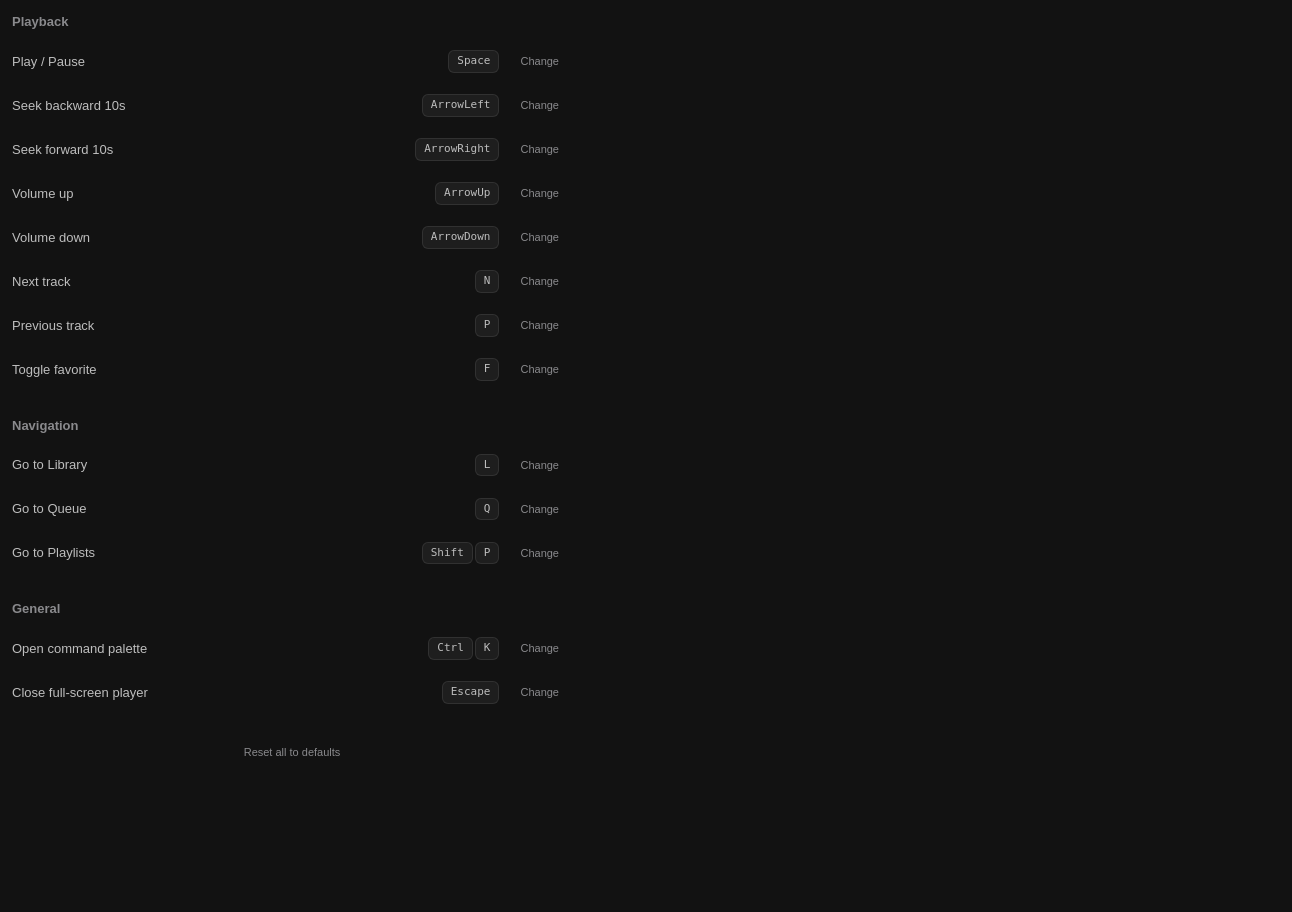
KeyboardShortcutsSettings › rebinding to a combo already used by another shortcut shows a conflict toast and changes nothing
Step 1. Click the button "Change" in the row of "Toggle favorite" → x=540, y=370, box [508,356,572,384]
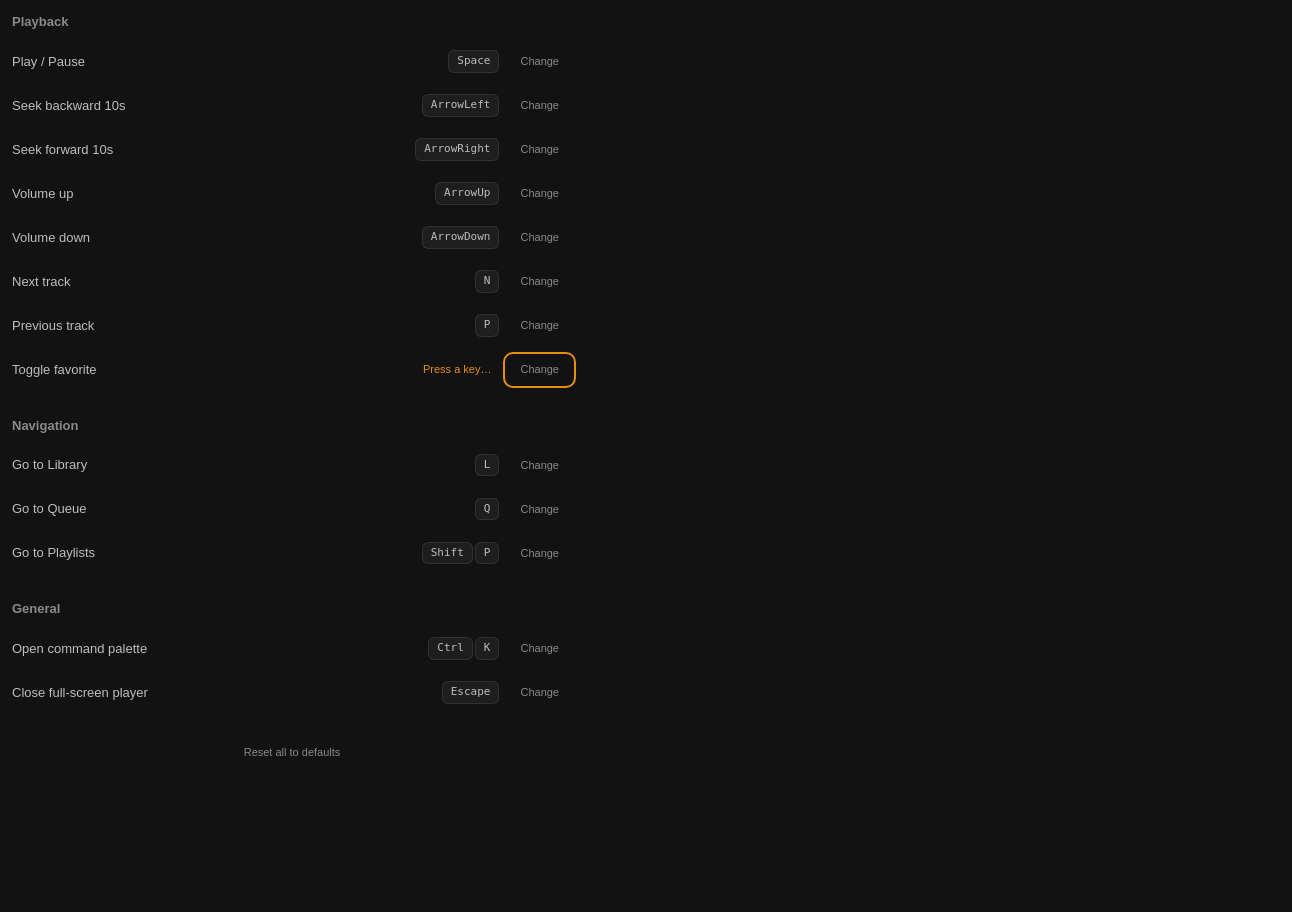
Note: "N" is already Next track's default binding.
Step 2. Press n
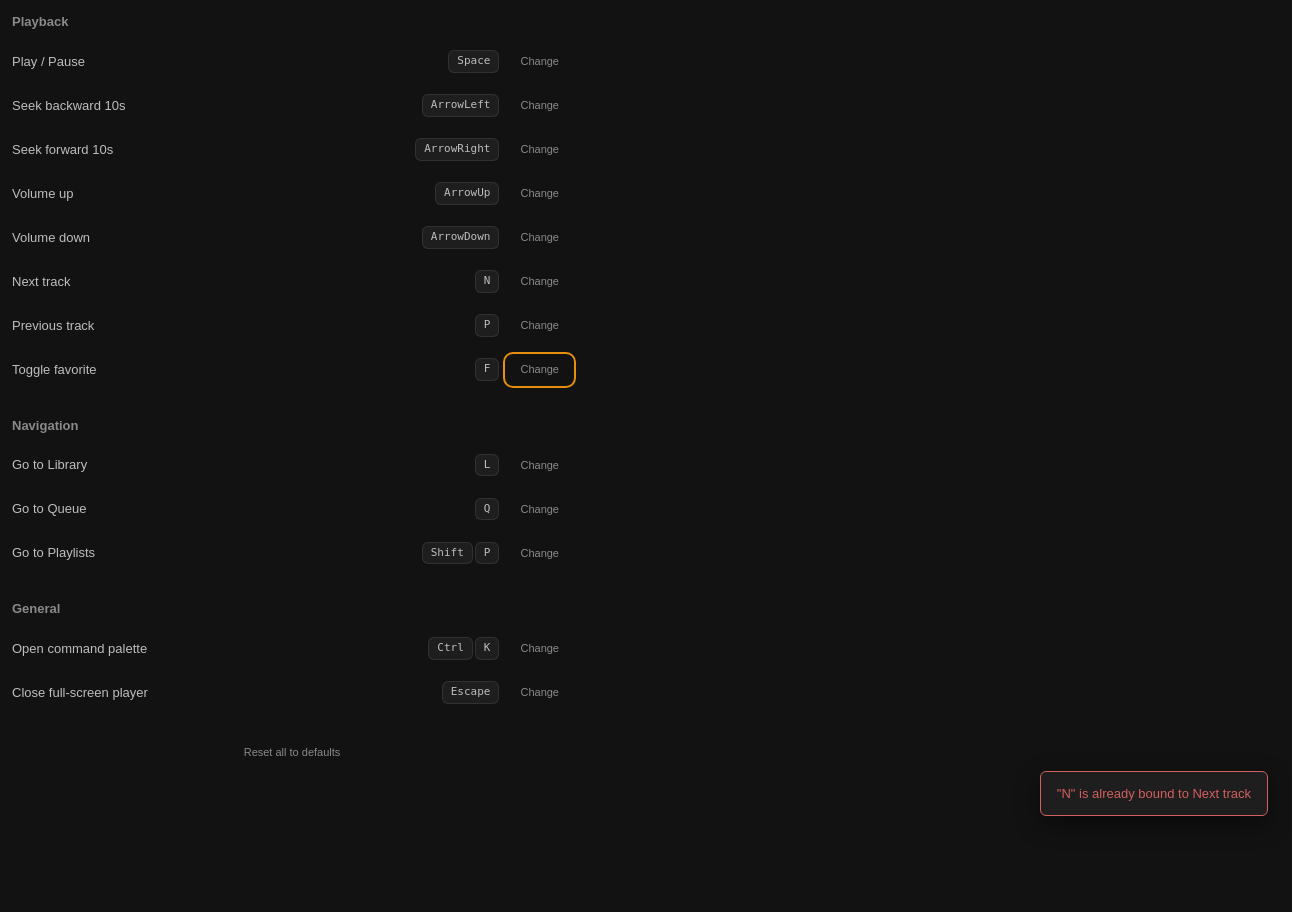
Now the text "\"N\" is already bound to Next track" is shown, box [1040,770,1268,816]
